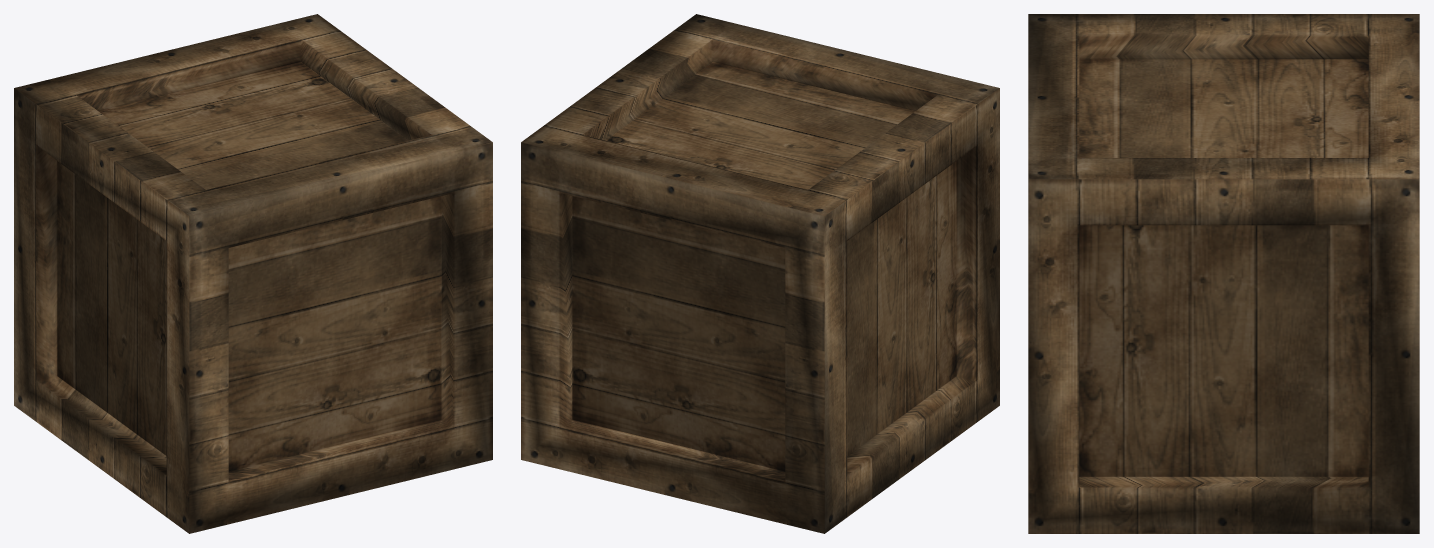
The model's file is cratea3.gltf.
3 renders of one model, left to right at view 1: azimuth 30°, elevation 25°; view 2: azimuth 150°, elevation 25°; view 3: azimuth 270°, elevation 25°, orthographic. The views are drawn at different scales.
Visible parts, largest first — view 1: cratea; view 2: cratea; view 3: cratea.
Boxes of the visible parts, bbox=[...] form: cratea: bbox=[14, 14, 492, 533]; cratea: bbox=[521, 14, 999, 533]; cratea: bbox=[1028, 14, 1419, 533].
Size of the model in its own units: 0.9995 by 0.9995 by 0.9995.
Materials: 1 (1 with a texture image).
